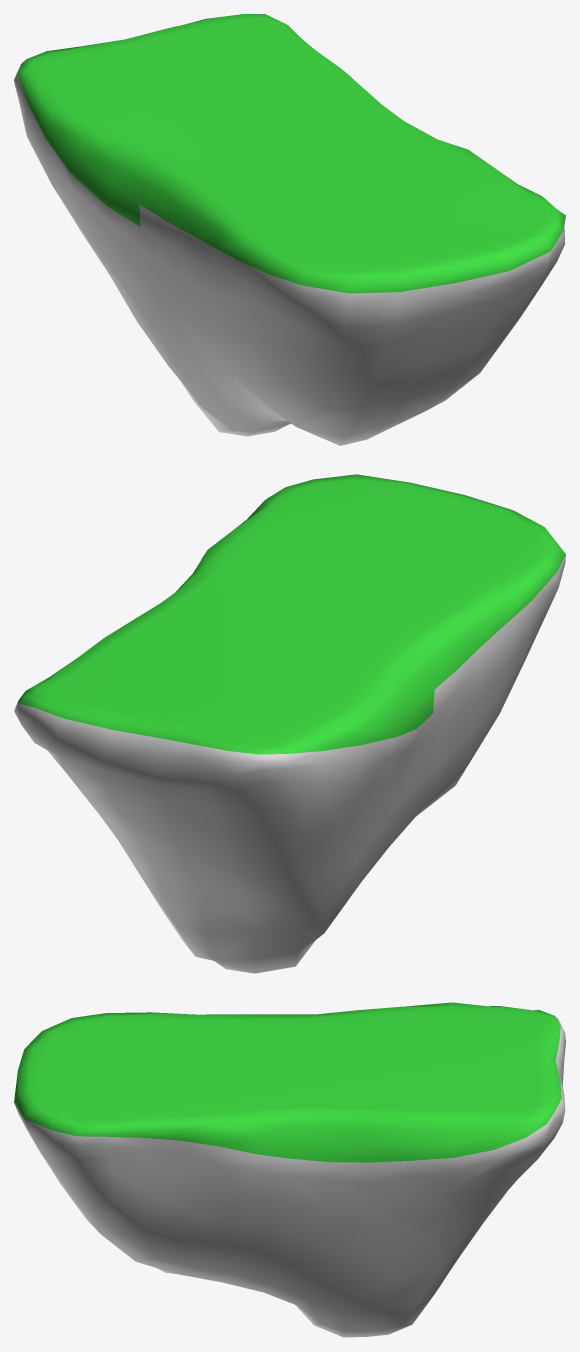
Rendered from platform_p_mid_02.fbx.
3 renders of one model, top to bottom at view 1: azimuth 30°, elevation 25°; view 2: azimuth 150°, elevation 25°; view 3: azimuth 270°, elevation 25°, orthographic. The views are drawn at different scales.
Parts seen in each view (by area): view 1: platform_central_04; view 2: platform_central_04; view 3: platform_central_04.
Part boxes in pixels (box(x1,y1,x2,y2)): platform_central_04: box(14, 14, 565, 445); platform_central_04: box(14, 474, 565, 973); platform_central_04: box(14, 1002, 565, 1337).
Bounding box in the file's own units: 8.21 × 8.11 × 15.11.
